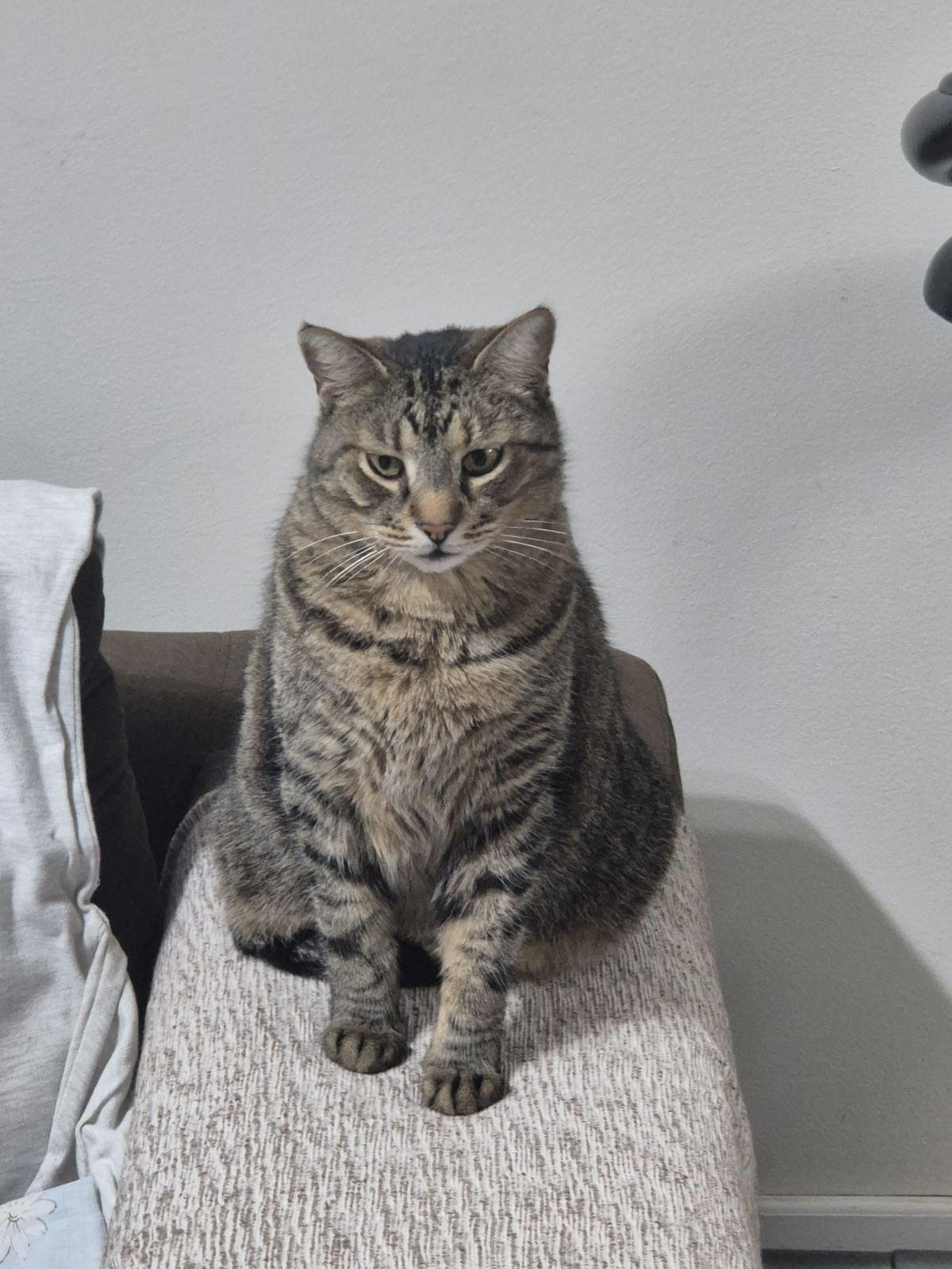macka: (218, 305, 682, 1119)
